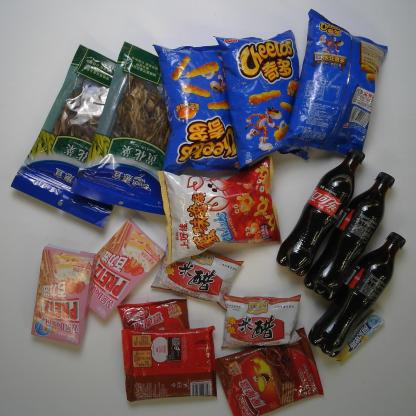Candy: (322, 312, 394, 370)
Dessert: (204, 327, 333, 413), (119, 317, 219, 410), (84, 216, 163, 332), (26, 237, 96, 354), (107, 296, 190, 365)
Dried Food: (10, 27, 127, 231), (68, 26, 179, 217)
Drink: (300, 163, 404, 303), (307, 214, 412, 352), (279, 139, 376, 278)
Puffed Food: (282, 1, 394, 166), (136, 20, 246, 178), (218, 9, 311, 182), (152, 147, 287, 266)
Seasoner: (139, 242, 251, 311), (219, 282, 304, 346)
